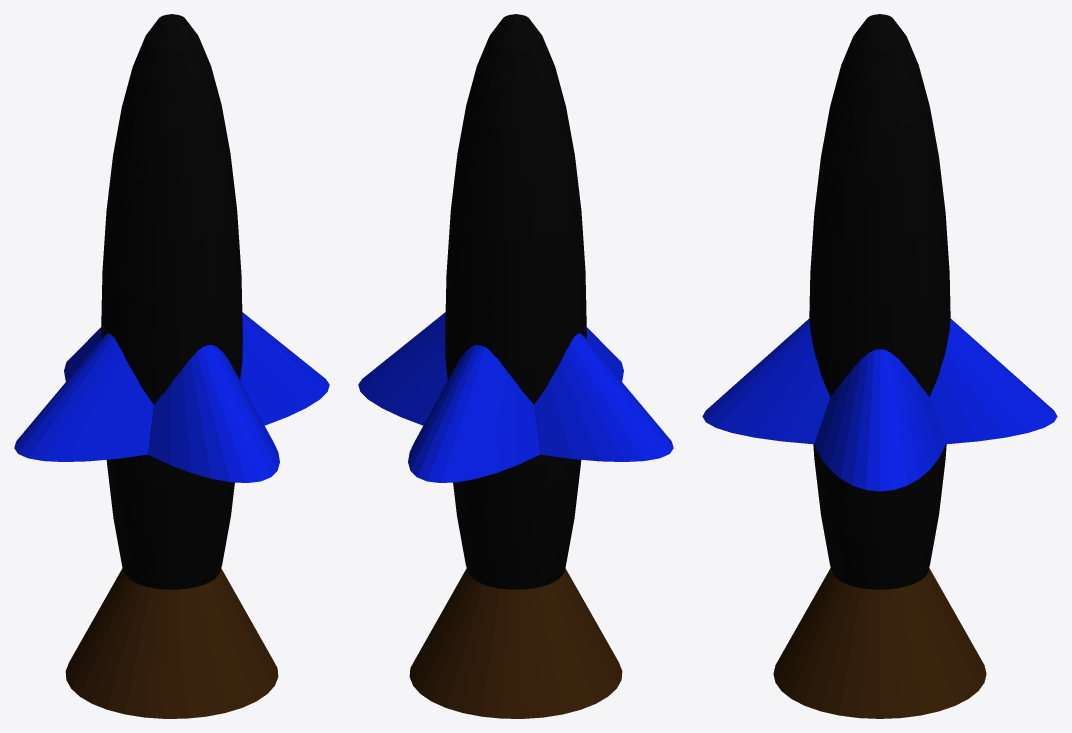
File: bdevil2_rocket.fbx
3 renders of one model, left to right at view 1: azimuth 30°, elevation 25°; view 2: azimuth 150°, elevation 25°; view 3: azimuth 270°, elevation 25°, orthographic.
Visible parts, largest first — view 1: Sphere, Cone, Cone.002, Cone.001; view 2: Sphere, Cone, Cone.002, Cone.001; view 3: Sphere, Cone, Cone.001, Cone.002.
Part boxes in pixels (left/top/right/bottom): Sphere: left=101, top=14, right=242, bottom=589; Cone: left=65, top=568, right=278, bottom=718; Cone.002: left=14, top=312, right=329, bottom=461; Cone.001: left=64, top=327, right=279, bottom=482; Sphere: left=445, top=14, right=586, bottom=589; Cone: left=409, top=568, right=622, bottom=718; Cone.002: left=358, top=312, right=673, bottom=461; Cone.001: left=408, top=327, right=623, bottom=482; Sphere: left=809, top=14, right=950, bottom=589; Cone: left=773, top=568, right=986, bottom=718; Cone.001: left=702, top=319, right=1057, bottom=444; Cone.002: left=814, top=349, right=945, bottom=491.
Size of the model in its own units: 100 by 205 by 100.
